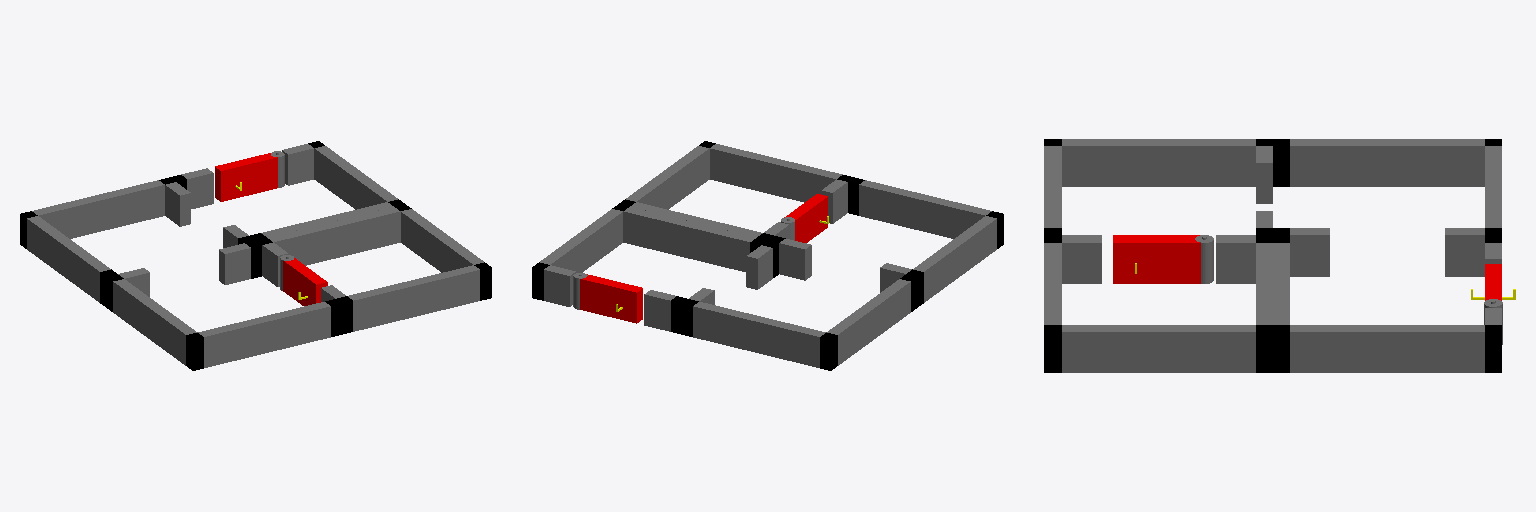
--- What the picture shows (computed from the rendered views, not written in the file) ---
The picture shows the robot from 3 angles, left to right: view 1: azimuth 30°, elevation 25°; view 2: azimuth 150°, elevation 25°; view 3: azimuth 270°, elevation 25°; orthographic projection.
Robot: rooms1 — 54 links, 53 joints (2 revolute, 2 prismatic, 49 fixed); root link base_link; default pose: every joint at zero.
Visible links, largest first — view 1: link_fixed_6_wall_(0.0, -0.4625), link_fixed_23_wall_(-1.0, -0.4625), link_fixed_4_wall_(0.0, 0.4625), link_fixed_28_wall_(-1.0, 1.4625), link_fixed_34_wall_(-1.4625, 1.0), link_fixed_26_wall_(-1.4625, 0.0), link_fixed_48_wall_(0.4625, 1.0), link_fixed_8_wall_(0.4625, 0.0), link_fixed_40_door_panel, link_fixed_14_door_panel, link_fixed_21_wall_(-0.6625, 0.4625), link_fixed_37_wall_(0.3375, 1.4625) (+5 smaller); view 2: link_fixed_28_wall_(-1.0, 1.4625), link_fixed_46_wall_(0.0, 0.5375), link_fixed_23_wall_(-1.0, -0.4625), link_fixed_6_wall_(0.0, -0.4625), link_fixed_26_wall_(-1.4625, 0.0), link_fixed_34_wall_(-1.4625, 1.0), link_fixed_8_wall_(0.4625, 0.0), link_fixed_48_wall_(0.4625, 1.0), link_fixed_40_door_panel, link_fixed_14_door_panel, link_fixed_21_wall_(-0.6625, 0.4625), link_fixed_37_wall_(0.3375, 1.4625) (+5 smaller); view 3: link_fixed_34_wall_(-1.4625, 1.0), link_fixed_48_wall_(0.4625, 1.0), link_fixed_26_wall_(-1.4625, 0.0), link_fixed_8_wall_(0.4625, 0.0), link_fixed_14_door_panel, link_fixed_10_wall_(-0.4625, -0.3375), link_fixed_11_wall_(-0.4625, 0.3375), link_fixed_31_wall_(-0.5375, 0.6625), link_fixed_32_wall_(-0.5375, 1.3375), link_fixed_23_wall_(-1.0, -0.4625), link_fixed_6_wall_(0.0, -0.4625), link_fixed_28_wall_(-1.0, 1.4625) (+10 smaller).
Boxes of the visible links, <box> form: link_fixed_6_wall_(0.0, -0.4625): <box>348,265,479,331</box>; link_fixed_23_wall_(-1.0, -0.4625): <box>198,302,330,367</box>; link_fixed_4_wall_(0.0, 0.4625): <box>268,207,400,265</box>; link_fixed_28_wall_(-1.0, 1.4625): <box>32,180,164,238</box>; link_fixed_34_wall_(-1.4625, 1.0): <box>27,216,110,302</box>; link_fixed_26_wall_(-1.4625, 0.0): <box>113,279,197,365</box>; link_fixed_48_wall_(0.4625, 1.0): <box>314,146,397,209</box>; link_fixed_8_wall_(0.4625, 0.0): <box>401,209,483,272</box>; link_fixed_40_door_panel: <box>215,153,277,201</box>; link_fixed_14_door_panel: <box>283,258,327,305</box>; link_fixed_21_wall_(-0.6625, 0.4625): <box>219,243,250,284</box>; link_fixed_37_wall_(0.3375, 1.4625): <box>282,144,313,185</box>; link_fixed_28_wall_(-1.0, 1.4625): <box>693,302,825,367</box>; link_fixed_46_wall_(0.0, 0.5375): <box>623,207,755,271</box>; link_fixed_23_wall_(-1.0, -0.4625): <box>859,180,991,238</box>; link_fixed_6_wall_(0.0, -0.4625): <box>710,144,842,202</box>; link_fixed_26_wall_(-1.4625, 0.0): <box>913,216,996,302</box>; link_fixed_34_wall_(-1.4625, 1.0): <box>826,279,910,365</box>; link_fixed_8_wall_(0.4625, 0.0): <box>626,146,709,209</box>; link_fixed_48_wall_(0.4625, 1.0): <box>540,209,622,272</box>; link_fixed_40_door_panel: <box>580,274,642,323</box>; link_fixed_14_door_panel: <box>784,194,827,242</box>; link_fixed_21_wall_(-0.6625, 0.4625): <box>779,239,811,280</box>; link_fixed_37_wall_(0.3375, 1.4625): <box>544,265,575,306</box>; link_fixed_34_wall_(-1.4625, 1.0): <box>1290,139,1484,186</box>; link_fixed_48_wall_(0.4625, 1.0): <box>1290,325,1484,372</box>; link_fixed_26_wall_(-1.4625, 0.0): <box>1062,139,1255,186</box>; link_fixed_8_wall_(0.4625, 0.0): <box>1062,325,1255,372</box>; link_fixed_14_door_panel: <box>1113,235,1200,283</box>; link_fixed_10_wall_(-0.4625, -0.3375): <box>1062,235,1101,283</box>; link_fixed_11_wall_(-0.4625, 0.3375): <box>1216,235,1255,283</box>; link_fixed_31_wall_(-0.5375, 0.6625): <box>1290,228,1329,276</box>; link_fixed_32_wall_(-0.5375, 1.3375): <box>1445,228,1484,276</box>; link_fixed_23_wall_(-1.0, -0.4625): <box>1044,146,1061,227</box>; link_fixed_6_wall_(0.0, -0.4625): <box>1044,243,1061,324</box>; link_fixed_28_wall_(-1.0, 1.4625): <box>1485,146,1501,227</box>.
Size in the robot's own frame: 8 by 8.24 by 0.879 metres.
Geometry: only primitive shapes (box / cylinder / sphere) drawn; not drawn: 2 mesh visuals (reference in a form the renderer does not follow).

The robot description file, URDF, robot "rooms1":
<?xml version="1.0"?>
<!-- created with Phobos 1.0.1 "Capricious Choutengan" -->
  <robot name="rooms1">

    <link name="base_link">
    </link>

    <link name="goal">
    </link>

    <link name="link_0_joint_0">
      <visual name="visual_mesh_2_link_0">
        <origin xyz="0 0 0" rpy="0 0 0"/>
        <geometry>
          <mesh filename="file://[local-path]/ba/puzzle-generator/puzzles/rooms1/meshes/stl/robot.stl" scale="1.0 1.0 1.0"/>
        </geometry>
        <material name="green"/>
      </visual>
      <collision name="collision_mesh_2_link_0">
        <origin xyz="0 0 0" rpy="0 0 0"/>
        <geometry>
          <mesh filename="file://[local-path]/ba/puzzle-generator/puzzles/rooms1/meshes/stl/robot.001.stl" scale="1.0 1.0 1.0"/>
        </geometry>
      </collision>
    </link>

    <link name="link_0_joint_0.001">
      <visual name="visual_mesh_2_link_0.001">
        <origin xyz="0 0 0" rpy="0 0 0"/>
        <geometry>
          <mesh filename="file://[local-path]/ba/puzzle-generator/puzzles/rooms1/meshes/stl/robot.002.stl" scale="0.999 0.999 0.999"/>
        </geometry>
        <material name="green_translucent"/>
      </visual>
    </link>

    <link name="link_0_joint_1">
    </link>

    <link name="link_0_joint_1.001">
    </link>

    <link name="link_0_joint_2">
    </link>

    <link name="link_1_joint_0">
      <visual name="visual_cylinder_12_link_1">
        <origin xyz="0 0 0" rpy="0 0 0"/>
        <geometry>
          <cylinder radius="0.1645" length="0.799"/>
        </geometry>
        <material name="gray"/>
      </visual>
      <collision name="collision_cylinder_12_link_1">
        <origin xyz="0 0 0" rpy="0 0 0"/>
        <geometry>
          <cylinder radius="0.1645" length="0.799"/>
        </geometry>
      </collision>
    </link>

    <link name="link_2_joint_0">
      <visual name="visual_cylinder_38_link_2">
        <origin xyz="0 0 0" rpy="0 0 0"/>
        <geometry>
          <cylinder radius="0.1645" length="0.799"/>
        </geometry>
        <material name="gray"/>
      </visual>
      <collision name="collision_cylinder_38_link_2">
        <origin xyz="0 0 0" rpy="0 0 0"/>
        <geometry>
          <cylinder radius="0.1645" length="0.799"/>
        </geometry>
      </collision>
    </link>

    <link name="link_fixed_10_wall_(-0.4625, -0.3375)">
      <visual name="visual_box_fixed_10_wall_(-0.4625, -0.3375)">
        <origin xyz="0 0 0" rpy="0 0 0"/>
        <geometry>
          <box size="0.299 0.699 0.799"/>
        </geometry>
        <material name="gray"/>
      </visual>
      <collision name="collision_box_fixed_10_wall_(-0.4625, -0.3375)">
        <origin xyz="0 0 0" rpy="0 0 0"/>
        <geometry>
          <box size="0.299 0.699 0.799"/>
        </geometry>
      </collision>
    </link>

    <link name="link_fixed_11_wall_(-0.4625, 0.3375)">
      <visual name="visual_box_fixed_11_wall_(-0.4625, 0.3375)">
        <origin xyz="0 0 0" rpy="0 0 0"/>
        <geometry>
          <box size="0.299 0.699 0.799"/>
        </geometry>
        <material name="gray"/>
      </visual>
      <collision name="collision_box_fixed_11_wall_(-0.4625, 0.3375)">
        <origin xyz="0 0 0" rpy="0 0 0"/>
        <geometry>
          <box size="0.299 0.699 0.799"/>
        </geometry>
      </collision>
    </link>

    <link name="link_fixed_13_hinge">
      <visual name="visual_cylinder_fixed_13_hinge">
        <origin xyz="0 0 0" rpy="0 0 0"/>
        <geometry>
          <cylinder radius="0.04075" length="0.879"/>
        </geometry>
        <material name="gray"/>
      </visual>
    </link>

    <link name="link_fixed_14_door_panel">
      <visual name="visual_box_fixed_14_door_panel">
        <origin xyz="0 0 0" rpy="0 0 0"/>
        <geometry>
          <box size="1.599 0.299 0.795"/>
        </geometry>
        <material name="red"/>
      </visual>
      <collision name="collision_box_fixed_14_door_panel">
        <origin xyz="0 0 0" rpy="0 0 0"/>
        <geometry>
          <box size="1.599 0.299 0.795"/>
        </geometry>
      </collision>
    </link>

    <link name="link_fixed_15_door_handle1">
      <visual name="visual_box_fixed_15_door_handle1">
        <origin xyz="0 0 0" rpy="0 0 0"/>
        <geometry>
          <box size="0.039 0.039 0.199"/>
        </geometry>
        <material name="yellow"/>
      </visual>
      <collision name="collision_box_fixed_15_door_handle1">
        <origin xyz="0 0 0" rpy="0 0 0"/>
        <geometry>
          <box size="0.039 0.039 0.199"/>
        </geometry>
      </collision>
    </link>

    <link name="link_fixed_16_door_handle1_connector">
      <visual name="visual_box_fixed_16_door_handle1_connector">
        <origin xyz="0 0 0" rpy="0 0 0"/>
        <geometry>
          <box size="0.039 0.199 0.039"/>
        </geometry>
        <material name="yellow"/>
      </visual>
      <collision name="collision_box_fixed_16_door_handle1_connector">
        <origin xyz="0 0 0" rpy="0 0 0"/>
        <geometry>
          <box size="0.039 0.199 0.039"/>
        </geometry>
      </collision>
    </link>

    <link name="link_fixed_17_door_handle2">
      <visual name="visual_box_fixed_17_door_handle2">
        <origin xyz="0 0 0" rpy="0 0 0"/>
        <geometry>
          <box size="0.039 0.039 0.199"/>
        </geometry>
        <material name="yellow"/>
      </visual>
      <collision name="collision_box_fixed_17_door_handle2">
        <origin xyz="0 0 0" rpy="0 0 0"/>
        <geometry>
          <box size="0.039 0.039 0.199"/>
        </geometry>
      </collision>
    </link>

    <link name="link_fixed_18_door_handle2_connector">
      <visual name="visual_box_fixed_18_door_handle2_connector">
        <origin xyz="0 0 0" rpy="0 0 0"/>
        <geometry>
          <box size="0.039 0.199 0.039"/>
        </geometry>
        <material name="yellow"/>
      </visual>
      <collision name="collision_box_fixed_18_door_handle2_connector">
        <origin xyz="0 0 0" rpy="0 0 0"/>
        <geometry>
          <box size="0.039 0.199 0.039"/>
        </geometry>
      </collision>
    </link>

    <link name="link_fixed_19_pillar_(-1.4625, 0.4625)">
      <visual name="visual_box_fixed_19_pillar_(-1.4625, 0.4625)">
        <origin xyz="0 0 0" rpy="0 0 0"/>
        <geometry>
          <box size="0.299 0.299 0.799"/>
        </geometry>
        <material name="black"/>
      </visual>
      <collision name="collision_box_fixed_19_pillar_(-1.4625, 0.4625)">
        <origin xyz="0 0 0" rpy="0 0 0"/>
        <geometry>
          <box size="0.299 0.299 0.799"/>
        </geometry>
      </collision>
    </link>

    <link name="link_fixed_20_wall_(-1.3375, 0.4625)">
      <visual name="visual_box_fixed_20_wall_(-1.3375, 0.4625)">
        <origin xyz="0 0 0" rpy="0 0 0"/>
        <geometry>
          <box size="0.699 0.299 0.799"/>
        </geometry>
        <material name="gray"/>
      </visual>
      <collision name="collision_box_fixed_20_wall_(-1.3375, 0.4625)">
        <origin xyz="0 0 0" rpy="0 0 0"/>
        <geometry>
          <box size="0.699 0.299 0.799"/>
        </geometry>
      </collision>
    </link>

    <link name="link_fixed_21_wall_(-0.6625, 0.4625)">
      <visual name="visual_box_fixed_21_wall_(-0.6625, 0.4625)">
        <origin xyz="0 0 0" rpy="0 0 0"/>
        <geometry>
          <box size="0.699 0.299 0.799"/>
        </geometry>
        <material name="gray"/>
      </visual>
      <collision name="collision_box_fixed_21_wall_(-0.6625, 0.4625)">
        <origin xyz="0 0 0" rpy="0 0 0"/>
        <geometry>
          <box size="0.699 0.299 0.799"/>
        </geometry>
      </collision>
    </link>

    <link name="link_fixed_22_pillar_(-0.5375, -0.4625)">
      <visual name="visual_box_fixed_22_pillar_(-0.5375, -0.4625)">
        <origin xyz="0 0 0" rpy="0 0 0"/>
        <geometry>
          <box size="0.299 0.299 0.799"/>
        </geometry>
        <material name="black"/>
      </visual>
      <collision name="collision_box_fixed_22_pillar_(-0.5375, -0.4625)">
        <origin xyz="0 0 0" rpy="0 0 0"/>
        <geometry>
          <box size="0.299 0.299 0.799"/>
        </geometry>
      </collision>
    </link>

    <link name="link_fixed_23_wall_(-1.0, -0.4625)">
      <visual name="visual_box_fixed_23_wall_(-1.0, -0.4625)">
        <origin xyz="0 0 0" rpy="0 0 0"/>
        <geometry>
          <box size="3.399 0.299 0.799"/>
        </geometry>
        <material name="gray"/>
      </visual>
      <collision name="collision_box_fixed_23_wall_(-1.0, -0.4625)">
        <origin xyz="0 0 0" rpy="0 0 0"/>
        <geometry>
          <box size="3.399 0.299 0.799"/>
        </geometry>
      </collision>
    </link>

    <link name="link_fixed_24_pillar_(-0.5375, 0.4625)">
      <visual name="visual_box_fixed_24_pillar_(-0.5375, 0.4625)">
        <origin xyz="0 0 0" rpy="0 0 0"/>
        <geometry>
          <box size="0.299 0.299 0.799"/>
        </geometry>
        <material name="black"/>
      </visual>
      <collision name="collision_box_fixed_24_pillar_(-0.5375, 0.4625)">
        <origin xyz="0 0 0" rpy="0 0 0"/>
        <geometry>
          <box size="0.299 0.299 0.799"/>
        </geometry>
      </collision>
    </link>

    <link name="link_fixed_25_pillar_(-1.4625, -0.4625)">
      <visual name="visual_box_fixed_25_pillar_(-1.4625, -0.4625)">
        <origin xyz="0 0 0" rpy="0 0 0"/>
        <geometry>
          <box size="0.299 0.299 0.799"/>
        </geometry>
        <material name="black"/>
      </visual>
      <collision name="collision_box_fixed_25_pillar_(-1.4625, -0.4625)">
        <origin xyz="0 0 0" rpy="0 0 0"/>
        <geometry>
          <box size="0.299 0.299 0.799"/>
        </geometry>
      </collision>
    </link>

    <link name="link_fixed_26_wall_(-1.4625, 0.0)">
      <visual name="visual_box_fixed_26_wall_(-1.4625, 0.0)">
        <origin xyz="0 0 0" rpy="0 0 0"/>
        <geometry>
          <box size="0.299 3.399 0.799"/>
        </geometry>
        <material name="gray"/>
      </visual>
      <collision name="collision_box_fixed_26_wall_(-1.4625, 0.0)">
        <origin xyz="0 0 0" rpy="0 0 0"/>
        <geometry>
          <box size="0.299 3.399 0.799"/>
        </geometry>
      </collision>
    </link>

    <link name="link_fixed_27_pillar_(-1.4625, 1.4625)">
      <visual name="visual_box_fixed_27_pillar_(-1.4625, 1.4625)">
        <origin xyz="0 0 0" rpy="0 0 0"/>
        <geometry>
          <box size="0.299 0.299 0.799"/>
        </geometry>
        <material name="black"/>
      </visual>
      <collision name="collision_box_fixed_27_pillar_(-1.4625, 1.4625)">
        <origin xyz="0 0 0" rpy="0 0 0"/>
        <geometry>
          <box size="0.299 0.299 0.799"/>
        </geometry>
      </collision>
    </link>

    <link name="link_fixed_28_wall_(-1.0, 1.4625)">
      <visual name="visual_box_fixed_28_wall_(-1.0, 1.4625)">
        <origin xyz="0 0 0" rpy="0 0 0"/>
        <geometry>
          <box size="3.399 0.299 0.799"/>
        </geometry>
        <material name="gray"/>
      </visual>
      <collision name="collision_box_fixed_28_wall_(-1.0, 1.4625)">
        <origin xyz="0 0 0" rpy="0 0 0"/>
        <geometry>
          <box size="3.399 0.299 0.799"/>
        </geometry>
      </collision>
    </link>

    <link name="link_fixed_29_pillar_(-0.5375, 0.5375)">
      <visual name="visual_box_fixed_29_pillar_(-0.5375, 0.5375)">
        <origin xyz="0 0 0" rpy="0 0 0"/>
        <geometry>
          <box size="0.299 0.299 0.799"/>
        </geometry>
        <material name="black"/>
      </visual>
      <collision name="collision_box_fixed_29_pillar_(-0.5375, 0.5375)">
        <origin xyz="0 0 0" rpy="0 0 0"/>
        <geometry>
          <box size="0.299 0.299 0.799"/>
        </geometry>
      </collision>
    </link>

    <link name="link_fixed_30_pillar_(-0.5375, 1.4625)">
      <visual name="visual_box_fixed_30_pillar_(-0.5375, 1.4625)">
        <origin xyz="0 0 0" rpy="0 0 0"/>
        <geometry>
          <box size="0.299 0.299 0.799"/>
        </geometry>
        <material name="black"/>
      </visual>
      <collision name="collision_box_fixed_30_pillar_(-0.5375, 1.4625)">
        <origin xyz="0 0 0" rpy="0 0 0"/>
        <geometry>
          <box size="0.299 0.299 0.799"/>
        </geometry>
      </collision>
    </link>

    <link name="link_fixed_31_wall_(-0.5375, 0.6625)">
      <visual name="visual_box_fixed_31_wall_(-0.5375, 0.6625)">
        <origin xyz="0 0 0" rpy="0 0 0"/>
        <geometry>
          <box size="0.299 0.699 0.799"/>
        </geometry>
        <material name="gray"/>
      </visual>
      <collision name="collision_box_fixed_31_wall_(-0.5375, 0.6625)">
        <origin xyz="0 0 0" rpy="0 0 0"/>
        <geometry>
          <box size="0.299 0.699 0.799"/>
        </geometry>
      </collision>
    </link>

    <link name="link_fixed_32_wall_(-0.5375, 1.3375)">
      <visual name="visual_box_fixed_32_wall_(-0.5375, 1.3375)">
        <origin xyz="0 0 0" rpy="0 0 0"/>
        <geometry>
          <box size="0.299 0.699 0.799"/>
        </geometry>
        <material name="gray"/>
      </visual>
      <collision name="collision_box_fixed_32_wall_(-0.5375, 1.3375)">
        <origin xyz="0 0 0" rpy="0 0 0"/>
        <geometry>
          <box size="0.299 0.699 0.799"/>
        </geometry>
      </collision>
    </link>

    <link name="link_fixed_33_pillar_(-1.4625, 0.5375)">
      <visual name="visual_box_fixed_33_pillar_(-1.4625, 0.5375)">
        <origin xyz="0 0 0" rpy="0 0 0"/>
        <geometry>
          <box size="0.299 0.299 0.799"/>
        </geometry>
        <material name="black"/>
      </visual>
      <collision name="collision_box_fixed_33_pillar_(-1.4625, 0.5375)">
        <origin xyz="0 0 0" rpy="0 0 0"/>
        <geometry>
          <box size="0.299 0.299 0.799"/>
        </geometry>
      </collision>
    </link>

    <link name="link_fixed_34_wall_(-1.4625, 1.0)">
      <visual name="visual_box_fixed_34_wall_(-1.4625, 1.0)">
        <origin xyz="0 0 0" rpy="0 0 0"/>
        <geometry>
          <box size="0.299 3.399 0.799"/>
        </geometry>
        <material name="gray"/>
      </visual>
      <collision name="collision_box_fixed_34_wall_(-1.4625, 1.0)">
        <origin xyz="0 0 0" rpy="0 0 0"/>
        <geometry>
          <box size="0.299 3.399 0.799"/>
        </geometry>
      </collision>
    </link>

    <link name="link_fixed_35_pillar_(-0.4625, 1.4625)">
      <visual name="visual_box_fixed_35_pillar_(-0.4625, 1.4625)">
        <origin xyz="0 0 0" rpy="0 0 0"/>
        <geometry>
          <box size="0.299 0.299 0.799"/>
        </geometry>
        <material name="black"/>
      </visual>
      <collision name="collision_box_fixed_35_pillar_(-0.4625, 1.4625)">
        <origin xyz="0 0 0" rpy="0 0 0"/>
        <geometry>
          <box size="0.299 0.299 0.799"/>
        </geometry>
      </collision>
    </link>

    <link name="link_fixed_36_wall_(-0.3375, 1.4625)">
      <visual name="visual_box_fixed_36_wall_(-0.3375, 1.4625)">
        <origin xyz="0 0 0" rpy="0 0 0"/>
        <geometry>
          <box size="0.699 0.299 0.799"/>
        </geometry>
        <material name="gray"/>
      </visual>
      <collision name="collision_box_fixed_36_wall_(-0.3375, 1.4625)">
        <origin xyz="0 0 0" rpy="0 0 0"/>
        <geometry>
          <box size="0.699 0.299 0.799"/>
        </geometry>
      </collision>
    </link>

    <link name="link_fixed_37_wall_(0.3375, 1.4625)">
      <visual name="visual_box_fixed_37_wall_(0.3375, 1.4625)">
        <origin xyz="0 0 0" rpy="0 0 0"/>
        <geometry>
          <box size="0.699 0.299 0.799"/>
        </geometry>
        <material name="gray"/>
      </visual>
      <collision name="collision_box_fixed_37_wall_(0.3375, 1.4625)">
        <origin xyz="0 0 0" rpy="0 0 0"/>
        <geometry>
          <box size="0.699 0.299 0.799"/>
        </geometry>
      </collision>
    </link>

    <link name="link_fixed_39_hinge">
      <visual name="visual_cylinder_fixed_39_hinge">
        <origin xyz="0 0 0" rpy="0 0 0"/>
        <geometry>
          <cylinder radius="0.04075" length="0.879"/>
        </geometry>
        <material name="gray"/>
      </visual>
    </link>

    <link name="link_fixed_3_pillar_(-0.4625, 0.4625)">
      <visual name="visual_box_fixed_3_pillar_(-0.4625, 0.4625)">
        <origin xyz="0 0 0" rpy="0 0 0"/>
        <geometry>
          <box size="0.299 0.299 0.799"/>
        </geometry>
        <material name="black"/>
      </visual>
      <collision name="collision_box_fixed_3_pillar_(-0.4625, 0.4625)">
        <origin xyz="0 0 0" rpy="0 0 0"/>
        <geometry>
          <box size="0.299 0.299 0.799"/>
        </geometry>
      </collision>
    </link>

    <link name="link_fixed_40_door_panel">
      <visual name="visual_box_fixed_40_door_panel">
        <origin xyz="0 0 0" rpy="0 0 0"/>
        <geometry>
          <box size="1.599 0.299 0.795"/>
        </geometry>
        <material name="red"/>
      </visual>
      <collision name="collision_box_fixed_40_door_panel">
        <origin xyz="0 0 0" rpy="0 0 0"/>
        <geometry>
          <box size="1.599 0.299 0.795"/>
        </geometry>
      </collision>
    </link>

    <link name="link_fixed_41_door_handle1">
      <visual name="visual_box_fixed_41_door_handle1">
        <origin xyz="0 0 0" rpy="0 0 0"/>
        <geometry>
          <box size="0.039 0.039 0.199"/>
        </geometry>
        <material name="yellow"/>
      </visual>
      <collision name="collision_box_fixed_41_door_handle1">
        <origin xyz="0 0 0" rpy="0 0 0"/>
        <geometry>
          <box size="0.039 0.039 0.199"/>
        </geometry>
      </collision>
    </link>

    <link name="link_fixed_42_door_handle1_connector">
      <visual name="visual_box_fixed_42_door_handle1_connector">
        <origin xyz="0 0 0" rpy="0 0 0"/>
        <geometry>
          <box size="0.039 0.199 0.039"/>
        </geometry>
        <material name="yellow"/>
      </visual>
      <collision name="collision_box_fixed_42_door_handle1_connector">
        <origin xyz="0 0 0" rpy="0 0 0"/>
        <geometry>
          <box size="0.039 0.199 0.039"/>
        </geometry>
      </collision>
    </link>

    <link name="link_fixed_43_door_handle2">
      <visual name="visual_box_fixed_43_door_handle2">
        <origin xyz="0 0 0" rpy="0 0 0"/>
        <geometry>
          <box size="0.039 0.039 0.199"/>
        </geometry>
        <material name="yellow"/>
      </visual>
      <collision name="collision_box_fixed_43_door_handle2">
        <origin xyz="0 0 0" rpy="0 0 0"/>
        <geometry>
          <box size="0.039 0.039 0.199"/>
        </geometry>
      </collision>
    </link>

    <link name="link_fixed_44_door_handle2_connector">
      <visual name="visual_box_fixed_44_door_handle2_connector">
        <origin xyz="0 0 0" rpy="0 0 0"/>
        <geometry>
          <box size="0.039 0.199 0.039"/>
        </geometry>
        <material name="yellow"/>
      </visual>
      <collision name="collision_box_fixed_44_door_handle2_connector">
        <origin xyz="0 0 0" rpy="0 0 0"/>
        <geometry>
          <box size="0.039 0.199 0.039"/>
        </geometry>
      </collision>
    </link>

    <link name="link_fixed_45_pillar_(0.4625, 0.5375)">
      <visual name="visual_box_fixed_45_pillar_(0.4625, 0.5375)">
        <origin xyz="0 0 0" rpy="0 0 0"/>
        <geometry>
          <box size="0.299 0.299 0.799"/>
        </geometry>
        <material name="black"/>
      </visual>
      <collision name="collision_box_fixed_45_pillar_(0.4625, 0.5375)">
        <origin xyz="0 0 0" rpy="0 0 0"/>
        <geometry>
          <box size="0.299 0.299 0.799"/>
        </geometry>
      </collision>
    </link>

    <link name="link_fixed_46_wall_(0.0, 0.5375)">
      <visual name="visual_box_fixed_46_wall_(0.0, 0.5375)">
        <origin xyz="0 0 0" rpy="0 0 0"/>
        <geometry>
          <box size="3.399 0.299 0.799"/>
        </geometry>
        <material name="gray"/>
      </visual>
      <collision name="collision_box_fixed_46_wall_(0.0, 0.5375)">
        <origin xyz="0 0 0" rpy="0 0 0"/>
        <geometry>
          <box size="3.399 0.299 0.799"/>
        </geometry>
      </collision>
    </link>

    <link name="link_fixed_47_pillar_(0.4625, 1.4625)">
      <visual name="visual_box_fixed_47_pillar_(0.4625, 1.4625)">
        <origin xyz="0 0 0" rpy="0 0 0"/>
        <geometry>
          <box size="0.299 0.299 0.799"/>
        </geometry>
        <material name="black"/>
      </visual>
      <collision name="collision_box_fixed_47_pillar_(0.4625, 1.4625)">
        <origin xyz="0 0 0" rpy="0 0 0"/>
        <geometry>
          <box size="0.299 0.299 0.799"/>
        </geometry>
      </collision>
    </link>

    <link name="link_fixed_48_wall_(0.4625, 1.0)">
      <visual name="visual_box_fixed_48_wall_(0.4625, 1.0)">
        <origin xyz="0 0 0" rpy="0 0 0"/>
        <geometry>
          <box size="0.299 3.399 0.799"/>
        </geometry>
        <material name="gray"/>
      </visual>
      <collision name="collision_box_fixed_48_wall_(0.4625, 1.0)">
        <origin xyz="0 0 0" rpy="0 0 0"/>
        <geometry>
          <box size="0.299 3.399 0.799"/>
        </geometry>
      </collision>
    </link>

    <link name="link_fixed_49_pillar_(-0.4625, 0.5375)">
      <visual name="visual_box_fixed_49_pillar_(-0.4625, 0.5375)">
        <origin xyz="0 0 0" rpy="0 0 0"/>
        <geometry>
          <box size="0.299 0.299 0.799"/>
        </geometry>
        <material name="black"/>
      </visual>
      <collision name="collision_box_fixed_49_pillar_(-0.4625, 0.5375)">
        <origin xyz="0 0 0" rpy="0 0 0"/>
        <geometry>
          <box size="0.299 0.299 0.799"/>
        </geometry>
      </collision>
    </link>

    <link name="link_fixed_4_wall_(0.0, 0.4625)">
      <visual name="visual_box_fixed_4_wall_(0.0, 0.4625)">
        <origin xyz="0 0 0" rpy="0 0 0"/>
        <geometry>
          <box size="3.399 0.299 0.799"/>
        </geometry>
        <material name="gray"/>
      </visual>
      <collision name="collision_box_fixed_4_wall_(0.0, 0.4625)">
        <origin xyz="0 0 0" rpy="0 0 0"/>
        <geometry>
          <box size="3.399 0.299 0.799"/>
        </geometry>
      </collision>
    </link>

    <link name="link_fixed_5_pillar_(0.4625, -0.4625)">
      <visual name="visual_box_fixed_5_pillar_(0.4625, -0.4625)">
        <origin xyz="0 0 0" rpy="0 0 0"/>
        <geometry>
          <box size="0.299 0.299 0.799"/>
        </geometry>
        <material name="black"/>
      </visual>
      <collision name="collision_box_fixed_5_pillar_(0.4625, -0.4625)">
        <origin xyz="0 0 0" rpy="0 0 0"/>
        <geometry>
          <box size="0.299 0.299 0.799"/>
        </geometry>
      </collision>
    </link>

    <link name="link_fixed_6_wall_(0.0, -0.4625)">
      <visual name="visual_box_fixed_6_wall_(0.0, -0.4625)">
        <origin xyz="0 0 0" rpy="0 0 0"/>
        <geometry>
          <box size="3.399 0.299 0.799"/>
        </geometry>
        <material name="gray"/>
      </visual>
      <collision name="collision_box_fixed_6_wall_(0.0, -0.4625)">
        <origin xyz="0 0 0" rpy="0 0 0"/>
        <geometry>
          <box size="3.399 0.299 0.799"/>
        </geometry>
      </collision>
    </link>

    <link name="link_fixed_7_pillar_(0.4625, 0.4625)">
      <visual name="visual_box_fixed_7_pillar_(0.4625, 0.4625)">
        <origin xyz="0 0 0" rpy="0 0 0"/>
        <geometry>
          <box size="0.299 0.299 0.799"/>
        </geometry>
        <material name="black"/>
      </visual>
      <collision name="collision_box_fixed_7_pillar_(0.4625, 0.4625)">
        <origin xyz="0 0 0" rpy="0 0 0"/>
        <geometry>
          <box size="0.299 0.299 0.799"/>
        </geometry>
      </collision>
    </link>

    <link name="link_fixed_8_wall_(0.4625, 0.0)">
      <visual name="visual_box_fixed_8_wall_(0.4625, 0.0)">
        <origin xyz="0 0 0" rpy="0 0 0"/>
        <geometry>
          <box size="0.299 3.399 0.799"/>
        </geometry>
        <material name="gray"/>
      </visual>
      <collision name="collision_box_fixed_8_wall_(0.4625, 0.0)">
        <origin xyz="0 0 0" rpy="0 0 0"/>
        <geometry>
          <box size="0.299 3.399 0.799"/>
        </geometry>
      </collision>
    </link>

    <link name="link_fixed_9_pillar_(-0.4625, -0.4625)">
      <visual name="visual_box_fixed_9_pillar_(-0.4625, -0.4625)">
        <origin xyz="0 0 0" rpy="0 0 0"/>
        <geometry>
          <box size="0.299 0.299 0.799"/>
        </geometry>
        <material name="black"/>
      </visual>
      <collision name="collision_box_fixed_9_pillar_(-0.4625, -0.4625)">
        <origin xyz="0 0 0" rpy="0 0 0"/>
        <geometry>
          <box size="0.299 0.299 0.799"/>
        </geometry>
      </collision>
    </link>

    <joint name="goal" type="fixed">
      <origin xyz="0 8.0 0.25" rpy="0 0 0"/>
      <parent link="base_link"/>
      <child link="goal"/>
      <limit effort="0" velocity="0"/>
    </joint>

    <joint name="link_0_joint_0" type="fixed">
      <origin xyz="0 0 0" rpy="0 0 0"/>
      <parent link="link_0_joint_1"/>
      <child link="link_0_joint_0"/>
      <limit effort="0" velocity="0"/>
    </joint>

    <joint name="link_0_joint_0.001" type="fixed">
      <origin xyz="0 0 0" rpy="0 0 0"/>
      <parent link="link_0_joint_1.001"/>
      <child link="link_0_joint_0.001"/>
      <limit effort="0" velocity="0"/>
    </joint>

    <joint name="link_0_joint_1" type="prismatic">
      <origin xyz="0 0 0" rpy="0 0 0"/>
      <parent link="link_0_joint_2"/>
      <child link="link_0_joint_1"/>
      <axis xyz="0 1.0 0"/>
      <limit lower="-2.0" upper="10.0" effort="0" velocity="0"/>
    </joint>

    <joint name="link_0_joint_1.001" type="fixed">
      <origin xyz="0 0 0" rpy="0 0 0"/>
      <parent link="goal"/>
      <child link="link_0_joint_1.001"/>
      <limit effort="0" velocity="0"/>
    </joint>

    <joint name="link_0_joint_2" type="prismatic">
      <origin xyz="0 0 0.25" rpy="0 0 0"/>
      <parent link="base_link"/>
      <child link="link_0_joint_2"/>
      <axis xyz="1.0 0 0"/>
      <limit lower="-6.0" upper="2.0" effort="0" velocity="0"/>
    </joint>

    <joint name="link_1_joint_0" type="revolute">
      <origin xyz="-1.85 0.8 0.4" rpy="0 0 -1.5708"/>
      <parent link="base_link"/>
      <child link="link_1_joint_0"/>
      <axis xyz="0 0 1.0"/>
      <limit lower="0" upper="1.5708" effort="0" velocity="0"/>
    </joint>

    <joint name="link_2_joint_0" type="revolute">
      <origin xyz="0.8 5.85 0.4" rpy="0 0 3.14159"/>
      <parent link="base_link"/>
      <child link="link_2_joint_0"/>
      <axis xyz="0 0 1.0"/>
      <limit lower="0" upper="1.5708" effort="0" velocity="0"/>
    </joint>

    <joint name="link_fixed_10_wall_(-0.4625, -0.3375)" type="fixed">
      <origin xyz="-1.85 -1.35 0.4" rpy="0 0 0"/>
      <parent link="base_link"/>
      <child link="link_fixed_10_wall_(-0.4625, -0.3375)"/>
    </joint>

    <joint name="link_fixed_11_wall_(-0.4625, 0.3375)" type="fixed">
      <origin xyz="-1.85 1.35 0.4" rpy="0 0 0"/>
      <parent link="base_link"/>
      <child link="link_fixed_11_wall_(-0.4625, 0.3375)"/>
    </joint>

    <joint name="link_fixed_13_hinge" type="fixed">
      <origin xyz="0 0 0" rpy="0 0 0"/>
      <parent link="link_1_joint_0"/>
      <child link="link_fixed_13_hinge"/>
    </joint>

    <joint name="link_fixed_14_door_panel" type="fixed">
      <origin xyz="0.8 0 0" rpy="0 0 0"/>
      <parent link="link_1_joint_0"/>
      <child link="link_fixed_14_door_panel"/>
    </joint>

    <joint name="link_fixed_15_door_handle1" type="fixed">
      <origin xyz="1.2 0.37 0" rpy="0 0 0"/>
      <parent link="link_1_joint_0"/>
      <child link="link_fixed_15_door_handle1"/>
    </joint>

    <joint name="link_fixed_16_door_handle1_connector" type="fixed">
      <origin xyz="1.2 0.25 -0.08" rpy="0 0 0"/>
      <parent link="link_1_joint_0"/>
      <child link="link_fixed_16_door_handle1_connector"/>
    </joint>

    <joint name="link_fixed_17_door_handle2" type="fixed">
      <origin xyz="1.2 -0.37 0" rpy="0 0 0"/>
      <parent link="link_1_joint_0"/>
      <child link="link_fixed_17_door_handle2"/>
    </joint>

    <joint name="link_fixed_18_door_handle2_connector" type="fixed">
      <origin xyz="1.2 -0.25 -0.08" rpy="0 0 0"/>
      <parent link="link_1_joint_0"/>
      <child link="link_fixed_18_door_handle2_connector"/>
    </joint>

    <joint name="link_fixed_19_pillar_(-1.4625, 0.4625)" type="fixed">
      <origin xyz="-5.85 1.85 0.4" rpy="0 0 0"/>
      <parent link="base_link"/>
      <child link="link_fixed_19_pillar_(-1.4625, 0.4625)"/>
    </joint>

    <joint name="link_fixed_20_wall_(-1.3375, 0.4625)" type="fixed">
      <origin xyz="-5.35 1.85 0.4" rpy="0 0 0"/>
      <parent link="base_link"/>
      <child link="link_fixed_20_wall_(-1.3375, 0.4625)"/>
    </joint>

    <joint name="link_fixed_21_wall_(-0.6625, 0.4625)" type="fixed">
      <origin xyz="-2.65 1.85 0.4" rpy="0 0 0"/>
      <parent link="base_link"/>
      <child link="link_fixed_21_wall_(-0.6625, 0.4625)"/>
    </joint>

    <joint name="link_fixed_22_pillar_(-0.5375, -0.4625)" type="fixed">
      <origin xyz="-2.15 -1.85 0.4" rpy="0 0 0"/>
      <parent link="base_link"/>
      <child link="link_fixed_22_pillar_(-0.5375, -0.4625)"/>
    </joint>

    <joint name="link_fixed_23_wall_(-1.0, -0.4625)" type="fixed">
      <origin xyz="-4.0 -1.85 0.4" rpy="0 0 0"/>
      <parent link="base_link"/>
      <child link="link_fixed_23_wall_(-1.0, -0.4625)"/>
    </joint>

    <joint name="link_fixed_24_pillar_(-0.5375, 0.4625)" type="fixed">
      <origin xyz="-2.15 1.85 0.4" rpy="0 0 0"/>
      <parent link="base_link"/>
      <child link="link_fixed_24_pillar_(-0.5375, 0.4625)"/>
    </joint>

    <joint name="link_fixed_25_pillar_(-1.4625, -0.4625)" type="fixed">
      <origin xyz="-5.85 -1.85 0.4" rpy="0 0 0"/>
      <parent link="base_link"/>
      <child link="link_fixed_25_pillar_(-1.4625, -0.4625)"/>
    </joint>

    <joint name="link_fixed_26_wall_(-1.4625, 0.0)" type="fixed">
      <origin xyz="-5.85 0 0.4" rpy="0 0 0"/>
      <parent link="base_link"/>
      <child link="link_fixed_26_wall_(-1.4625, 0.0)"/>
    </joint>

    <joint name="link_fixed_27_pillar_(-1.4625, 1.4625)" type="fixed">
      <origin xyz="-5.85 5.85 0.4" rpy="0 0 0"/>
      <parent link="base_link"/>
      <child link="link_fixed_27_pillar_(-1.4625, 1.4625)"/>
    </joint>

    <joint name="link_fixed_28_wall_(-1.0, 1.4625)" type="fixed">
      <origin xyz="-4.0 5.85 0.4" rpy="0 0 0"/>
      <parent link="base_link"/>
      <child link="link_fixed_28_wall_(-1.0, 1.4625)"/>
    </joint>

    <joint name="link_fixed_29_pillar_(-0.5375, 0.5375)" type="fixed">
      <origin xyz="-2.15 2.15 0.4" rpy="0 0 0"/>
      <parent link="base_link"/>
      <child link="link_fixed_29_pillar_(-0.5375, 0.5375)"/>
    </joint>

    <joint name="link_fixed_30_pillar_(-0.5375, 1.4625)" type="fixed">
      <origin xyz="-2.15 5.85 0.4" rpy="0 0 0"/>
      <parent link="base_link"/>
      <child link="link_fixed_30_pillar_(-0.5375, 1.4625)"/>
    </joint>

    <joint name="link_fixed_31_wall_(-0.5375, 0.6625)" type="fixed">
      <origin xyz="-2.15 2.65 0.4" rpy="0 0 0"/>
      <parent link="base_link"/>
      <child link="link_fixed_31_wall_(-0.5375, 0.6625)"/>
    </joint>

    <joint name="link_fixed_32_wall_(-0.5375, 1.3375)" type="fixed">
      <origin xyz="-2.15 5.35 0.4" rpy="0 0 0"/>
      <parent link="base_link"/>
      <child link="link_fixed_32_wall_(-0.5375, 1.3375)"/>
    </joint>

    <joint name="link_fixed_33_pillar_(-1.4625, 0.5375)" type="fixed">
      <origin xyz="-5.85 2.15 0.4" rpy="0 0 0"/>
      <parent link="base_link"/>
      <child link="link_fixed_33_pillar_(-1.4625, 0.5375)"/>
    </joint>

    <joint name="link_fixed_34_wall_(-1.4625, 1.0)" type="fixed">
      <origin xyz="-5.85 4.0 0.4" rpy="0 0 0"/>
      <parent link="base_link"/>
      <child link="link_fixed_34_wall_(-1.4625, 1.0)"/>
    </joint>

    <joint name="link_fixed_35_pillar_(-0.4625, 1.4625)" type="fixed">
      <origin xyz="-1.85 5.85 0.4" rpy="0 0 0"/>
      <parent link="base_link"/>
      <child link="link_fixed_35_pillar_(-0.4625, 1.4625)"/>
    </joint>

    <joint name="link_fixed_36_wall_(-0.3375, 1.4625)" type="fixed">
      <origin xyz="-1.35 5.85 0.4" rpy="0 0 0"/>
      <parent link="base_link"/>
      <child link="link_fixed_36_wall_(-0.3375, 1.4625)"/>
    </joint>

    <joint name="link_fixed_37_wall_(0.3375, 1.4625)" type="fixed">
      <origin xyz="1.35 5.85 0.4" rpy="0 0 0"/>
      <parent link="base_link"/>
      <child link="link_fixed_37_wall_(0.3375, 1.4625)"/>
    </joint>

    <joint name="link_fixed_39_hinge" type="fixed">
      <origin xyz="0 0 0" rpy="0 0 0"/>
      <parent link="link_2_joint_0"/>
      <child link="link_fixed_39_hinge"/>
    </joint>

    <joint name="link_fixed_3_pillar_(-0.4625, 0.4625)" type="fixed">
      <origin xyz="-1.85 1.85 0.4" rpy="0 0 0"/>
      <parent link="base_link"/>
      <child link="link_fixed_3_pillar_(-0.4625, 0.4625)"/>
    </joint>

    <joint name="link_fixed_40_door_panel" type="fixed">
      <origin xyz="0.8 0 0" rpy="0 0 0"/>
      <parent link="link_2_joint_0"/>
      <child link="link_fixed_40_door_panel"/>
    </joint>

    <joint name="link_fixed_41_door_handle1" type="fixed">
      <origin xyz="1.2 0.37 0" rpy="0 0 0"/>
      <parent link="link_2_joint_0"/>
      <child link="link_fixed_41_door_handle1"/>
    </joint>

    <joint name="link_fixed_42_door_handle1_connector" type="fixed">
      <origin xyz="1.2 0.25 -0.08" rpy="0 0 0"/>
      <parent link="link_2_joint_0"/>
      <child link="link_fixed_42_door_handle1_connector"/>
    </joint>

    <joint name="link_fixed_43_door_handle2" type="fixed">
      <origin xyz="1.2 -0.37 0" rpy="0 0 0"/>
      <parent link="link_2_joint_0"/>
      <child link="link_fixed_43_door_handle2"/>
    </joint>

    <joint name="link_fixed_44_door_handle2_connector" type="fixed">
      <origin xyz="1.2 -0.25 -0.08" rpy="0 0 0"/>
      <parent link="link_2_joint_0"/>
      <child link="link_fixed_44_door_handle2_connector"/>
    </joint>

    <joint name="link_fixed_45_pillar_(0.4625, 0.5375)" type="fixed">
      <origin xyz="1.85 2.15 0.4" rpy="0 0 0"/>
      <parent link="base_link"/>
      <child link="link_fixed_45_pillar_(0.4625, 0.5375)"/>
    </joint>

    <joint name="link_fixed_46_wall_(0.0, 0.5375)" type="fixed">
      <origin xyz="0 2.15 0.4" rpy="0 0 0"/>
      <parent link="base_link"/>
      <child link="link_fixed_46_wall_(0.0, 0.5375)"/>
    </joint>

    <joint name="link_fixed_47_pillar_(0.4625, 1.4625)" type="fixed">
      <origin xyz="1.85 5.85 0.4" rpy="0 0 0"/>
      <parent link="base_link"/>
      <child link="link_fixed_47_pillar_(0.4625, 1.4625)"/>
    </joint>

    <joint name="link_fixed_48_wall_(0.4625, 1.0)" type="fixed">
      <origin xyz="1.85 4.0 0.4" rpy="0 0 0"/>
      <parent link="base_link"/>
      <child link="link_fixed_48_wall_(0.4625, 1.0)"/>
    </joint>

    <joint name="link_fixed_49_pillar_(-0.4625, 0.5375)" type="fixed">
      <origin xyz="-1.85 2.15 0.4" rpy="0 0 0"/>
      <parent link="base_link"/>
      <child link="link_fixed_49_pillar_(-0.4625, 0.5375)"/>
    </joint>

    <joint name="link_fixed_4_wall_(0.0, 0.4625)" type="fixed">
      <origin xyz="0 1.85 0.4" rpy="0 0 0"/>
      <parent link="base_link"/>
      <child link="link_fixed_4_wall_(0.0, 0.4625)"/>
    </joint>

    <joint name="link_fixed_5_pillar_(0.4625, -0.4625)" type="fixed">
      <origin xyz="1.85 -1.85 0.4" rpy="0 0 0"/>
      <parent link="base_link"/>
      <child link="link_fixed_5_pillar_(0.4625, -0.4625)"/>
    </joint>

    <joint name="link_fixed_6_wall_(0.0, -0.4625)" type="fixed">
      <origin xyz="0 -1.85 0.4" rpy="0 0 0"/>
      <parent link="base_link"/>
      <child link="link_fixed_6_wall_(0.0, -0.4625)"/>
    </joint>

    <joint name="link_fixed_7_pillar_(0.4625, 0.4625)" type="fixed">
      <origin xyz="1.85 1.85 0.4" rpy="0 0 0"/>
      <parent link="base_link"/>
      <child link="link_fixed_7_pillar_(0.4625, 0.4625)"/>
    </joint>

    <joint name="link_fixed_8_wall_(0.4625, 0.0)" type="fixed">
      <origin xyz="1.85 0 0.4" rpy="0 0 0"/>
      <parent link="base_link"/>
      <child link="link_fixed_8_wall_(0.4625, 0.0)"/>
    </joint>

    <joint name="link_fixed_9_pillar_(-0.4625, -0.4625)" type="fixed">
      <origin xyz="-1.85 -1.85 0.4" rpy="0 0 0"/>
      <parent link="base_link"/>
      <child link="link_fixed_9_pillar_(-0.4625, -0.4625)"/>
    </joint>

    <material name="black">
      <color rgba="0 0 0 1.0"/>
    </material>

    <material name="gray">
      <color rgba="0.5 0.5 0.5 1.0"/>
    </material>

    <material name="green">
      <color rgba="0 1.0 0 1.0"/>
    </material>

    <material name="green_translucent">
      <color rgba="0 1.0 0 0.25"/>
    </material>

    <material name="red">
      <color rgba="1.0 0 0 1.0"/>
    </material>

    <material name="yellow">
      <color rgba="1.0 1.0 0 1.0"/>
    </material>

  </robot>
